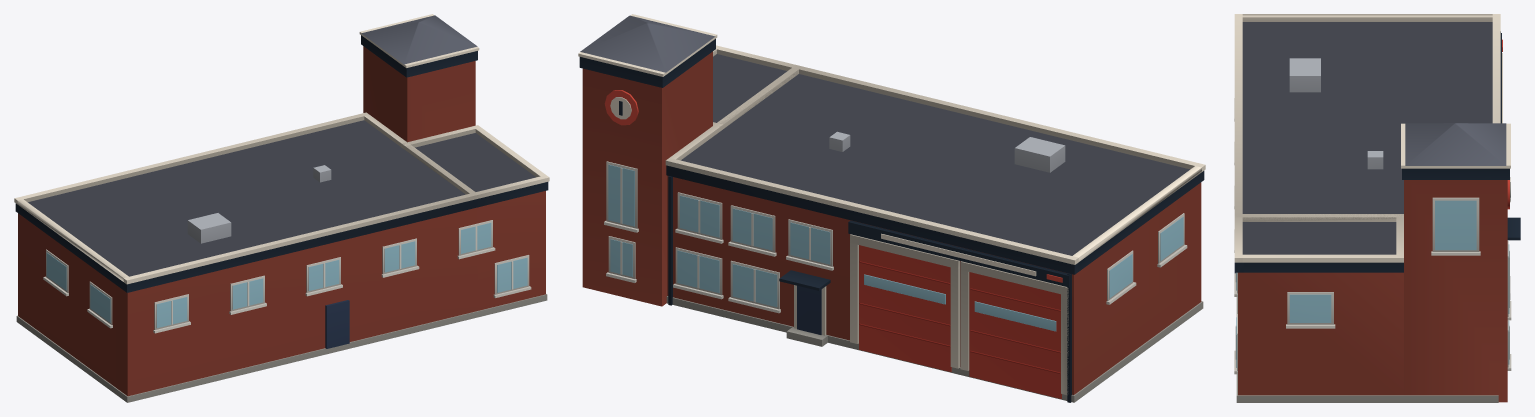
The model's file is station_hall.glb.
3 views of the same model, side by side, from view 1: azimuth 30°, elevation 25°; view 2: azimuth 150°, elevation 25°; view 3: azimuth 270°, elevation 25° (orthographic). The views are drawn at different scales.
Visible parts, largest first — view 1: Body; view 2: Body, BayDoor1, BayDoor2; view 3: Body.
Part boxes in pixels (x1,y1,x2,y2): Body: (14, 14, 549, 402); Body: (578, 14, 1205, 402); BayDoor1: (969, 272, 1061, 398); BayDoor2: (859, 245, 951, 371); Body: (1234, 14, 1520, 402).
Bounding box in the file's own units: 22.28 × 11.02 × 11.04.
1 material, 1 textured.
